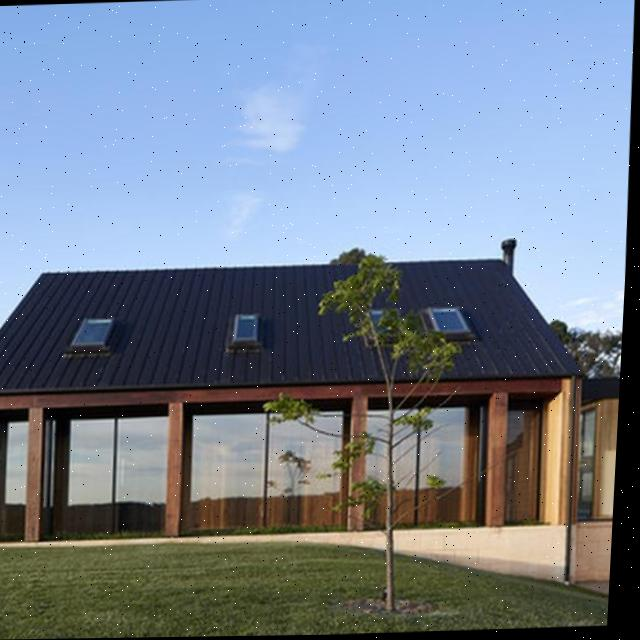building: (0, 253, 586, 544)
